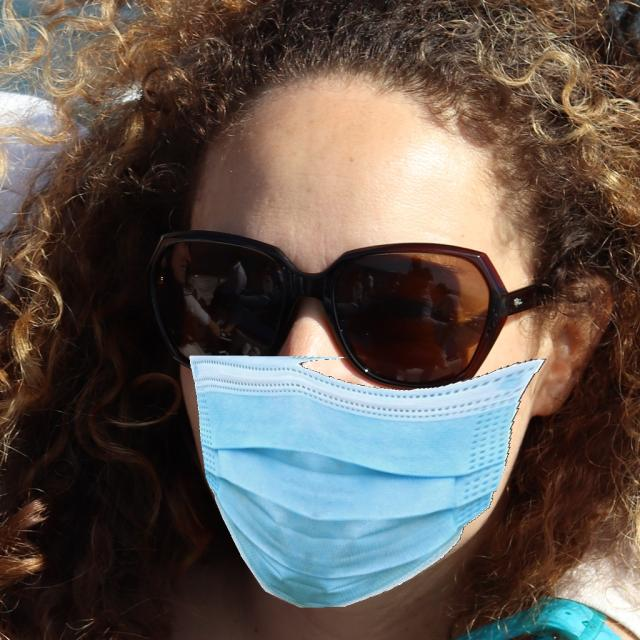2_gafas: (142, 228, 543, 383)
